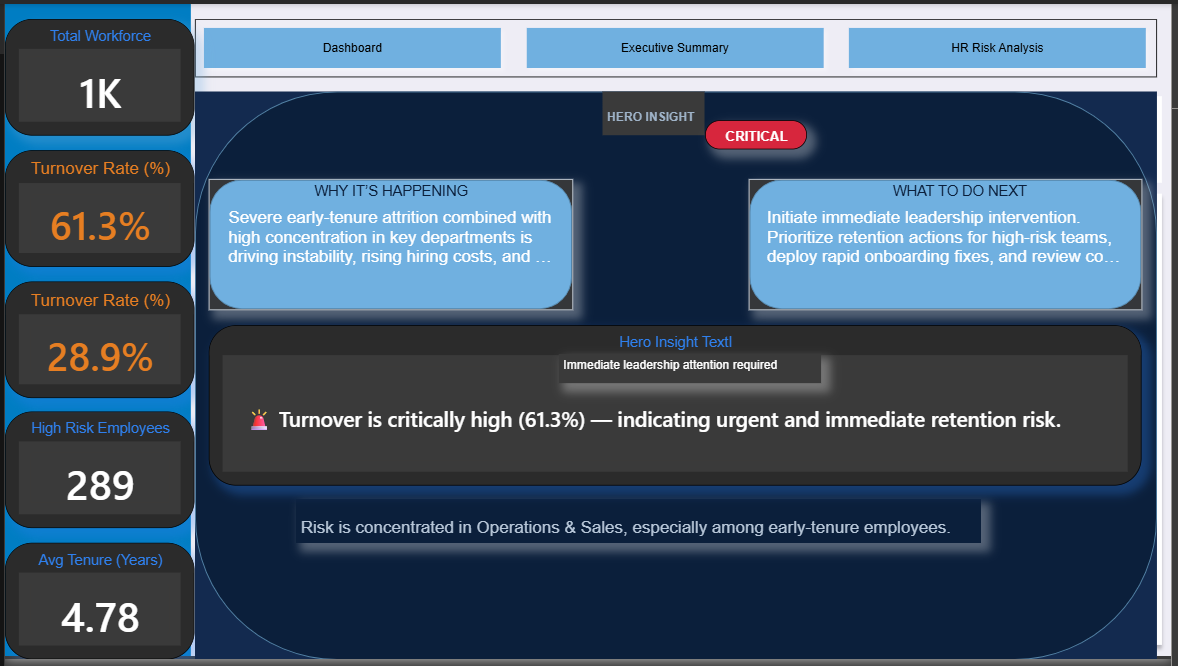

This screenshot's page, from the dashboard's own definition file:
{"tool":"powerbi","page":{"name":"Executive Summary","canvas":[1280,720],"ordinal":1},"visuals":[{"type":"pageNavigator","box":[208,16,1056,64],"z":3000},{"type":"cardVisual","title":"High Risk Employees","fields":{"Data":["hr_final_clean.High Risk Employees"]},"box":[0,448,208,128],"z":4000},{"type":"cardVisual","title":"Total Workforce","fields":{"Data":["hr_final_clean.Total Employees"]},"box":[0,16,208,128],"z":5000},{"type":"cardVisual","title":"Turnover Rate (%)","fields":{"Data":["hr_final_clean.Turnover Rate"]},"box":[0,160,208,128],"z":6000},{"type":"cardVisual","title":"Avg Tenure (Years)","fields":{"Data":["hr_final_clean.Average Tenure"]},"box":[0,592,208,128],"z":7000},{"type":"cardVisual","title":"Turnover Rate (%)","fields":{"Data":["hr_final_clean.High Risk %"]},"box":[0,304,208,128],"z":8000},{"type":"shape","box":[208,96,1056,624],"z":9000},{"type":"textbox","box":[656,96,112,48],"z":10000},{"type":"textbox","box":[320,544,752,48],"z":12000},{"type":"shape","title":"CRITICAL","box":[768,128,112,32],"z":13000},{"type":"shape","box":[224,192,400,144],"z":14000},{"type":"textbox","box":[320,176,208,48],"z":15000},{"type":"shape","box":[816,192,432,144],"z":16000},{"type":"textbox","box":[944,192,208,32],"z":17000},{"type":"textbox","box":[832,224,400,96],"z":18000},{"type":"cardVisual","title":"Hero Insight TextI","fields":{"Data":["hr_final_clean.Hero Insight Text"]},"box":[224,352,1024,176],"z":19000},{"type":"textbox","box":[608,384,288,32],"z":20000},{"type":"textbox","box":[240,224,368,96],"z":21000}]}

Visuals, with their boxes in screenshot pixels (x1, y1, x2, y2), scaled from the page's 1280x720 canvas onto the 1178x666 screenshot:
pageNavigator: Rect(191, 15, 1163, 74)
"High Risk Employees" cardVisual: Rect(0, 414, 191, 533)
"Total Workforce" cardVisual: Rect(0, 15, 191, 133)
"Turnover Rate (%)" cardVisual: Rect(0, 148, 191, 266)
"Avg Tenure (Years)" cardVisual: Rect(0, 548, 191, 665)
"Turnover Rate (%)" cardVisual: Rect(0, 281, 191, 400)
shape: Rect(191, 89, 1163, 665)
textbox: Rect(604, 89, 707, 133)
textbox: Rect(294, 503, 987, 548)
"CRITICAL" shape: Rect(707, 118, 810, 148)
shape: Rect(206, 178, 574, 311)
textbox: Rect(294, 163, 486, 207)
shape: Rect(751, 178, 1149, 311)
textbox: Rect(869, 178, 1060, 207)
textbox: Rect(766, 207, 1134, 296)
"Hero Insight TextI" cardVisual: Rect(206, 326, 1149, 488)
textbox: Rect(560, 355, 825, 385)
textbox: Rect(221, 207, 560, 296)
